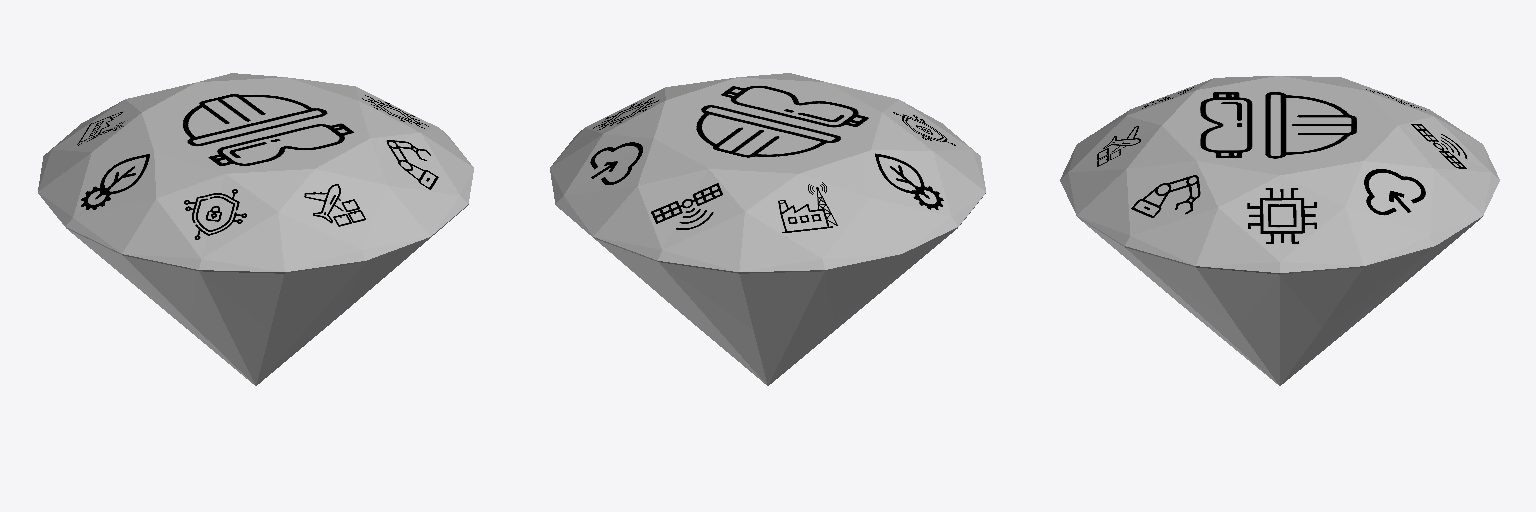
3 renders of one model, left to right at view 1: azimuth 30°, elevation 25°; view 2: azimuth 150°, elevation 25°; view 3: azimuth 270°, elevation 25°, orthographic.
Visible parts, largest first — view 1: 000_Diamond, 001_face_Top, 002_Face_lock, 009_face_plane, 003_face_Leaf, 008_face_kran, 004_face_plant, 007_face_chip; view 2: 000_Diamond, 001_face_Top, 004_face_plant, 005_face_space_ship, 003_face_Leaf, 006_face_cloud, 002_Face_lock, 007_face_chip; view 3: 000_Diamond, 001_face_Top, 007_face_chip, 008_face_kran, 006_face_cloud, 009_face_plane, 005_face_space_ship.
Boxes of the visible parts, box(x1,y1,x2,y2) form: 000_Diamond: box(38, 73, 473, 385); 001_face_Top: box(142, 77, 369, 173); 002_Face_lock: box(157, 174, 277, 258); 009_face_plane: box(279, 169, 386, 249); 003_face_Leaf: box(73, 151, 155, 216); 008_face_kran: box(370, 133, 459, 195); 004_face_plant: box(53, 100, 141, 151); 007_face_chip: box(356, 87, 438, 131); 000_Diamond: box(550, 73, 985, 385); 001_face_Top: box(654, 77, 881, 173); 004_face_plant: box(746, 174, 869, 258); 005_face_space_ship: box(638, 169, 744, 249); 003_face_Leaf: box(871, 150, 950, 216); 006_face_cloud: box(564, 134, 653, 195); 002_Face_lock: box(882, 100, 970, 150); 007_face_chip: box(585, 88, 665, 133); 000_Diamond: box(1060, 76, 1499, 385); 001_face_Top: box(1162, 76, 1397, 174); 007_face_chip: box(1218, 176, 1344, 261); 008_face_kran: box(1126, 161, 1217, 235); 006_face_cloud: box(1345, 161, 1433, 235); 009_face_plane: box(1068, 116, 1161, 172); 005_face_space_ship: box(1398, 116, 1491, 172).
Size of the model in its own units: 10.81 by 7.07 by 10.81.
Materials: 10 (10 with a texture image).